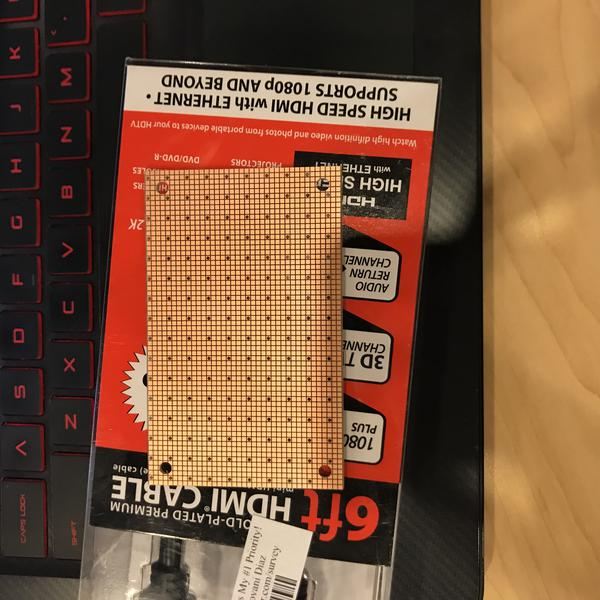board: (139, 163, 347, 492)
